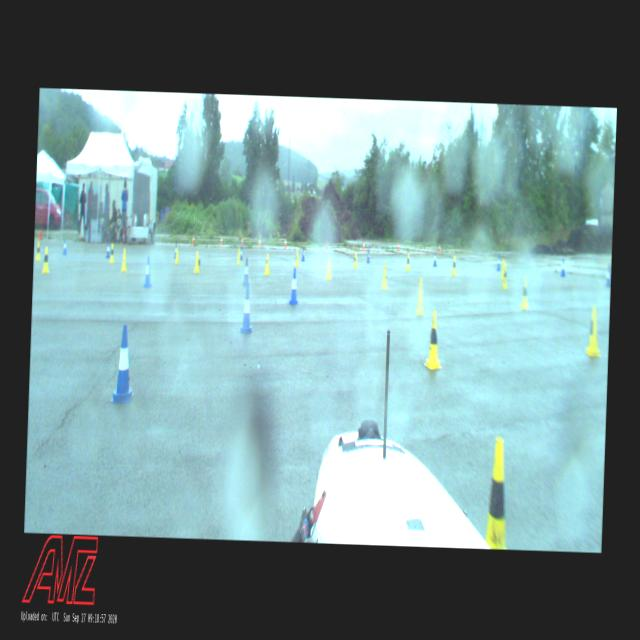blue_cone: (110, 324, 136, 402), (240, 290, 253, 332), (289, 268, 298, 304), (143, 256, 151, 286), (242, 258, 250, 284), (605, 262, 611, 286), (560, 257, 565, 275), (105, 241, 109, 257), (62, 238, 66, 254), (496, 254, 500, 270), (432, 252, 436, 266), (366, 249, 370, 262), (174, 244, 176, 258), (302, 248, 304, 260)
orange_cone: (438, 242, 441, 252), (240, 236, 242, 246), (258, 237, 260, 246), (220, 236, 222, 244), (284, 238, 286, 245)
yellow_cone: (484, 439, 509, 548), (424, 310, 443, 368), (586, 306, 602, 356), (414, 278, 426, 314), (520, 276, 528, 308), (41, 247, 50, 272), (381, 264, 388, 288), (120, 248, 126, 271), (326, 256, 332, 279), (502, 267, 508, 289), (264, 254, 270, 274), (34, 241, 40, 260), (108, 243, 114, 261), (194, 252, 200, 270), (451, 256, 456, 274), (405, 253, 410, 270), (500, 258, 504, 278), (353, 252, 357, 268), (294, 250, 298, 266), (174, 248, 178, 263), (237, 248, 240, 264)
